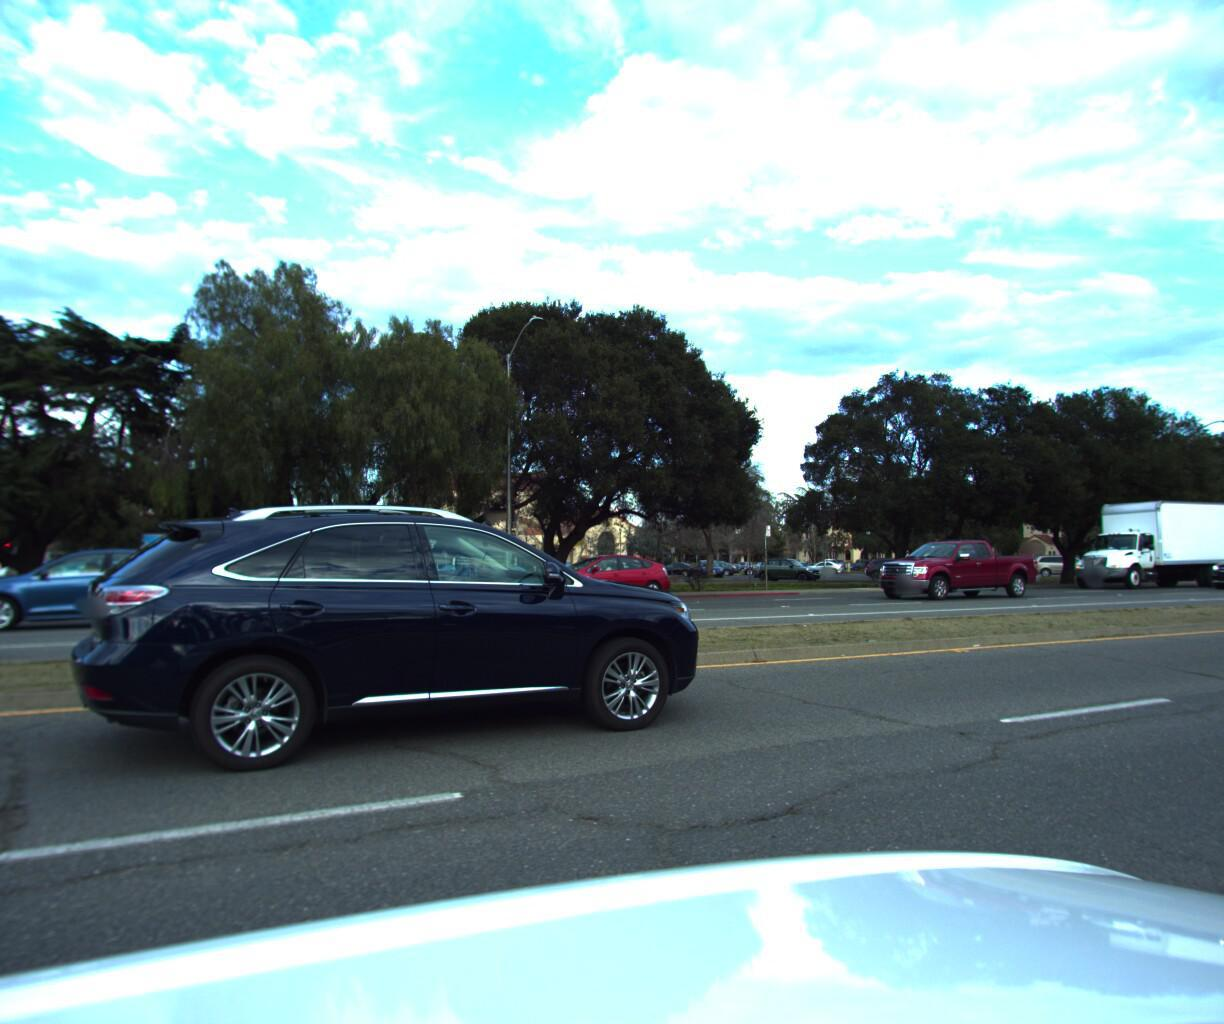car: (71, 483, 726, 789), (868, 536, 1045, 596), (527, 552, 678, 601), (1204, 540, 1224, 585)
truck: (1053, 488, 1224, 585)
